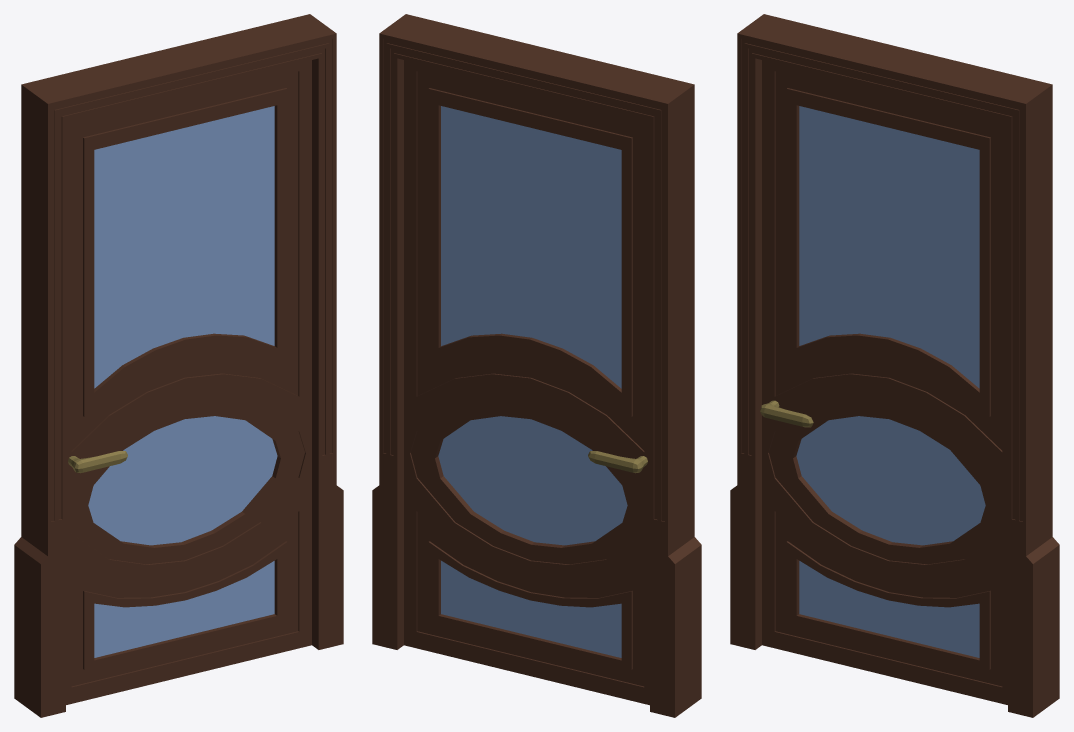
Rendered from Door1.gltf.
The picture shows the model from 3 angles, left to right: view 1: azimuth 30°, elevation 25°; view 2: azimuth 150°, elevation 25°; view 3: azimuth 330°, elevation 25°; orthographic projection.
Parts seen in each view (by area): view 1: Door, DoorFrame, DoorHandle; view 2: Door, DoorFrame, DoorHandle; view 3: Door, DoorFrame, DoorHandle.
Boxes of the visible parts, box(x1,y1,x2,y2) form: Door: box(66, 60, 311, 704); DoorFrame: box(14, 14, 343, 717); DoorHandle: box(68, 451, 127, 473); Door: box(404, 60, 649, 705); DoorFrame: box(372, 14, 701, 717); DoorHandle: box(588, 451, 647, 473); Door: box(762, 60, 1007, 704); DoorFrame: box(730, 14, 1059, 717); DoorHandle: box(760, 400, 813, 427).
Size of the model in its own units: 1.59 by 3.08 by 0.3199.
